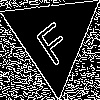F: (28, 12, 76, 68)
